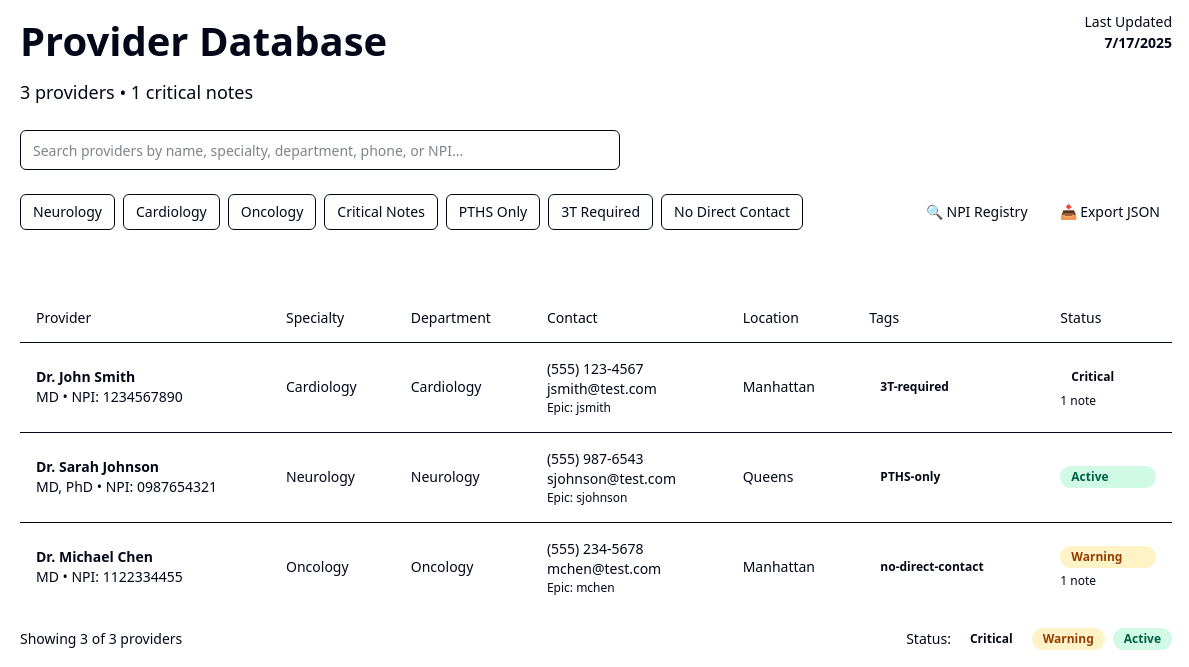
it: Providers Page - Core Functionality (TDD) › 2. Search Functionality (TDD) › filters providers by specialty
Step 1. Type "cardiology" into the field → (320, 150), box [20,130,620,170]
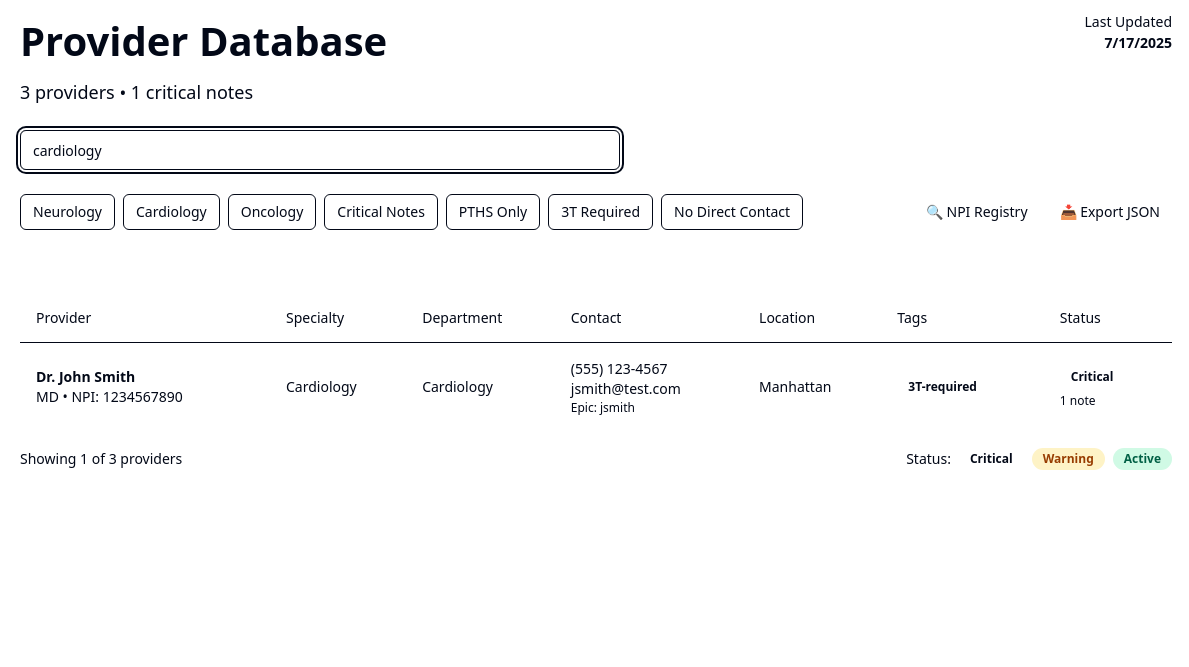
Check: the text "Dr. John Smith" is shown, box [36,367,135,386]
Check: the text "Dr. Sarah Johnson" is gone
Check: the text "Dr. Michael Chen" is gone
